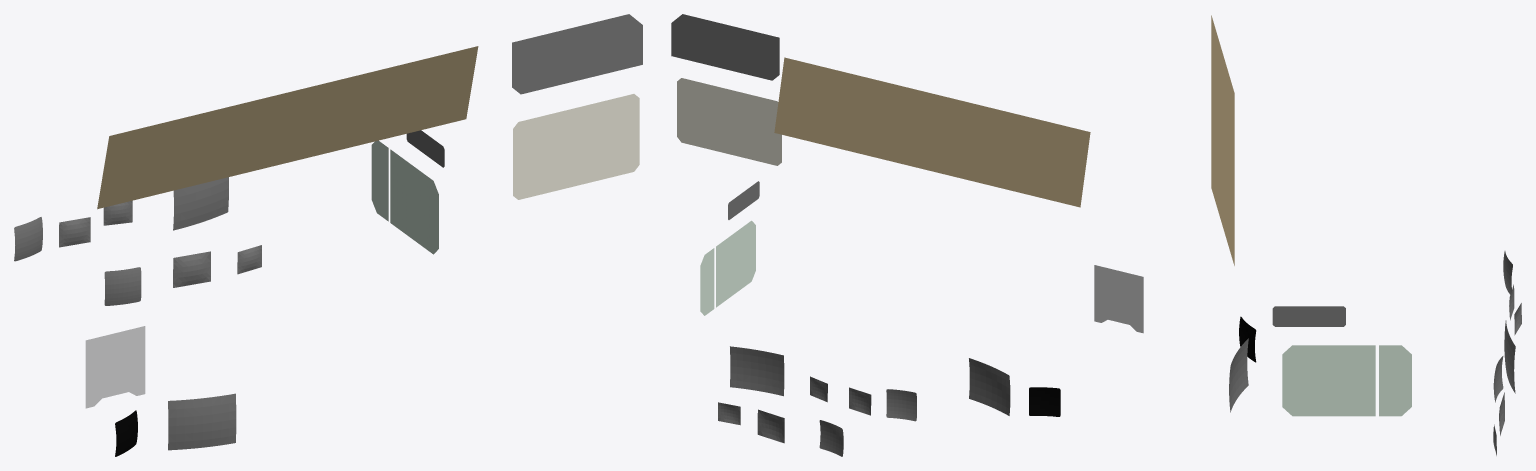
The model's file is NeonMonitor.FBX.
The picture shows the model from 3 angles, left to right: view 1: azimuth 30°, elevation 25°; view 2: azimuth 150°, elevation 25°; view 3: azimuth 270°, elevation 25°; orthographic projection. The views are drawn at different scales.
Visible parts, largest first — view 1: Object004, Object002, Object001, Kitbash3d_CyberpunkProps-Native_Desirefx_me_CyberShop_Tech_S, Object006, Object009, Object005, Object011, Object012, Object007, Object008; view 2: Object004, Object002, Object001, Kitbash3d_CyberpunkProps-Native_Desirefx_me_CyberShop_Tech_S, Object005, Object006, Object009, Object012, Object011, Object007, Object008; view 3: Kitbash3d_CyberpunkProps-Native_Desirefx_me_CyberShop_Tech_S, Object004, Object008, Object009, Object005, Object007, Object011, Object012.
Part boxes in pixels (x1,y1,x2,y2): Object004: (97,46,478,209); Object002: (513,94,639,199); Object001: (512,14,642,94); Kitbash3d_CyberpunkProps-Native_Desirefx_me_CyberShop_Tech_S: (371,140,438,254); Object006: (85,326,145,408); Object009: (168,393,236,450); Object005: (173,177,228,287); Object011: (103,200,141,305); Object012: (14,217,90,261); Object007: (115,410,137,456); Object008: (406,130,444,167); Object004: (774,57,1090,207); Object002: (677,78,781,165); Object001: (671,14,779,80); Kitbash3d_CyberpunkProps-Native_Desirefx_me_CyberShop_Tech_S: (700,220,755,315); Object005: (730,346,784,443); Object006: (1094,265,1143,333); Object009: (969,358,1010,415); Object012: (849,387,916,421); Object011: (810,376,843,456); Object007: (1029,387,1060,416); Object008: (728,181,759,219); Kitbash3d_CyberpunkProps-Native_Desirefx_me_CyberShop_Tech_S: (1282,345,1411,416); Object004: (1211,15,1234,265); Object008: (1272,306,1345,326); Object009: (1229,338,1248,412); Object005: (1499,320,1515,435); Object007: (1239,316,1256,362); Object011: (1493,303,1521,402); Object012: (1503,251,1514,320).
Bounding box in the file's own units: 527 × 318 × 294.
